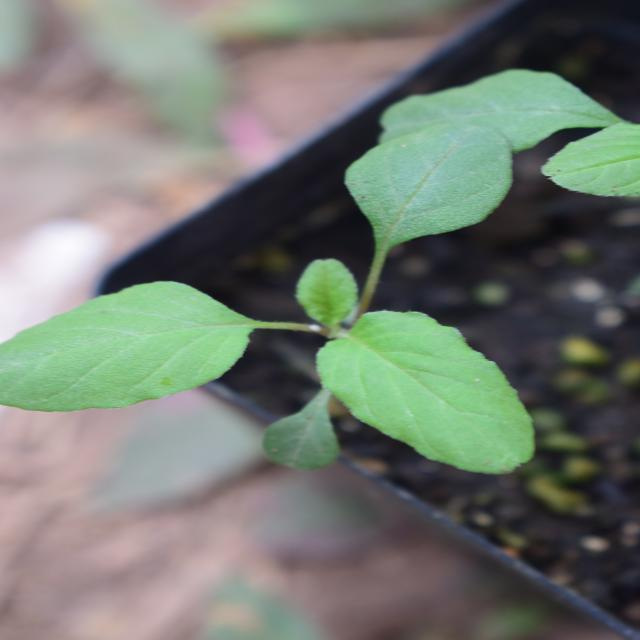pigweed: (172, 12, 516, 560)
